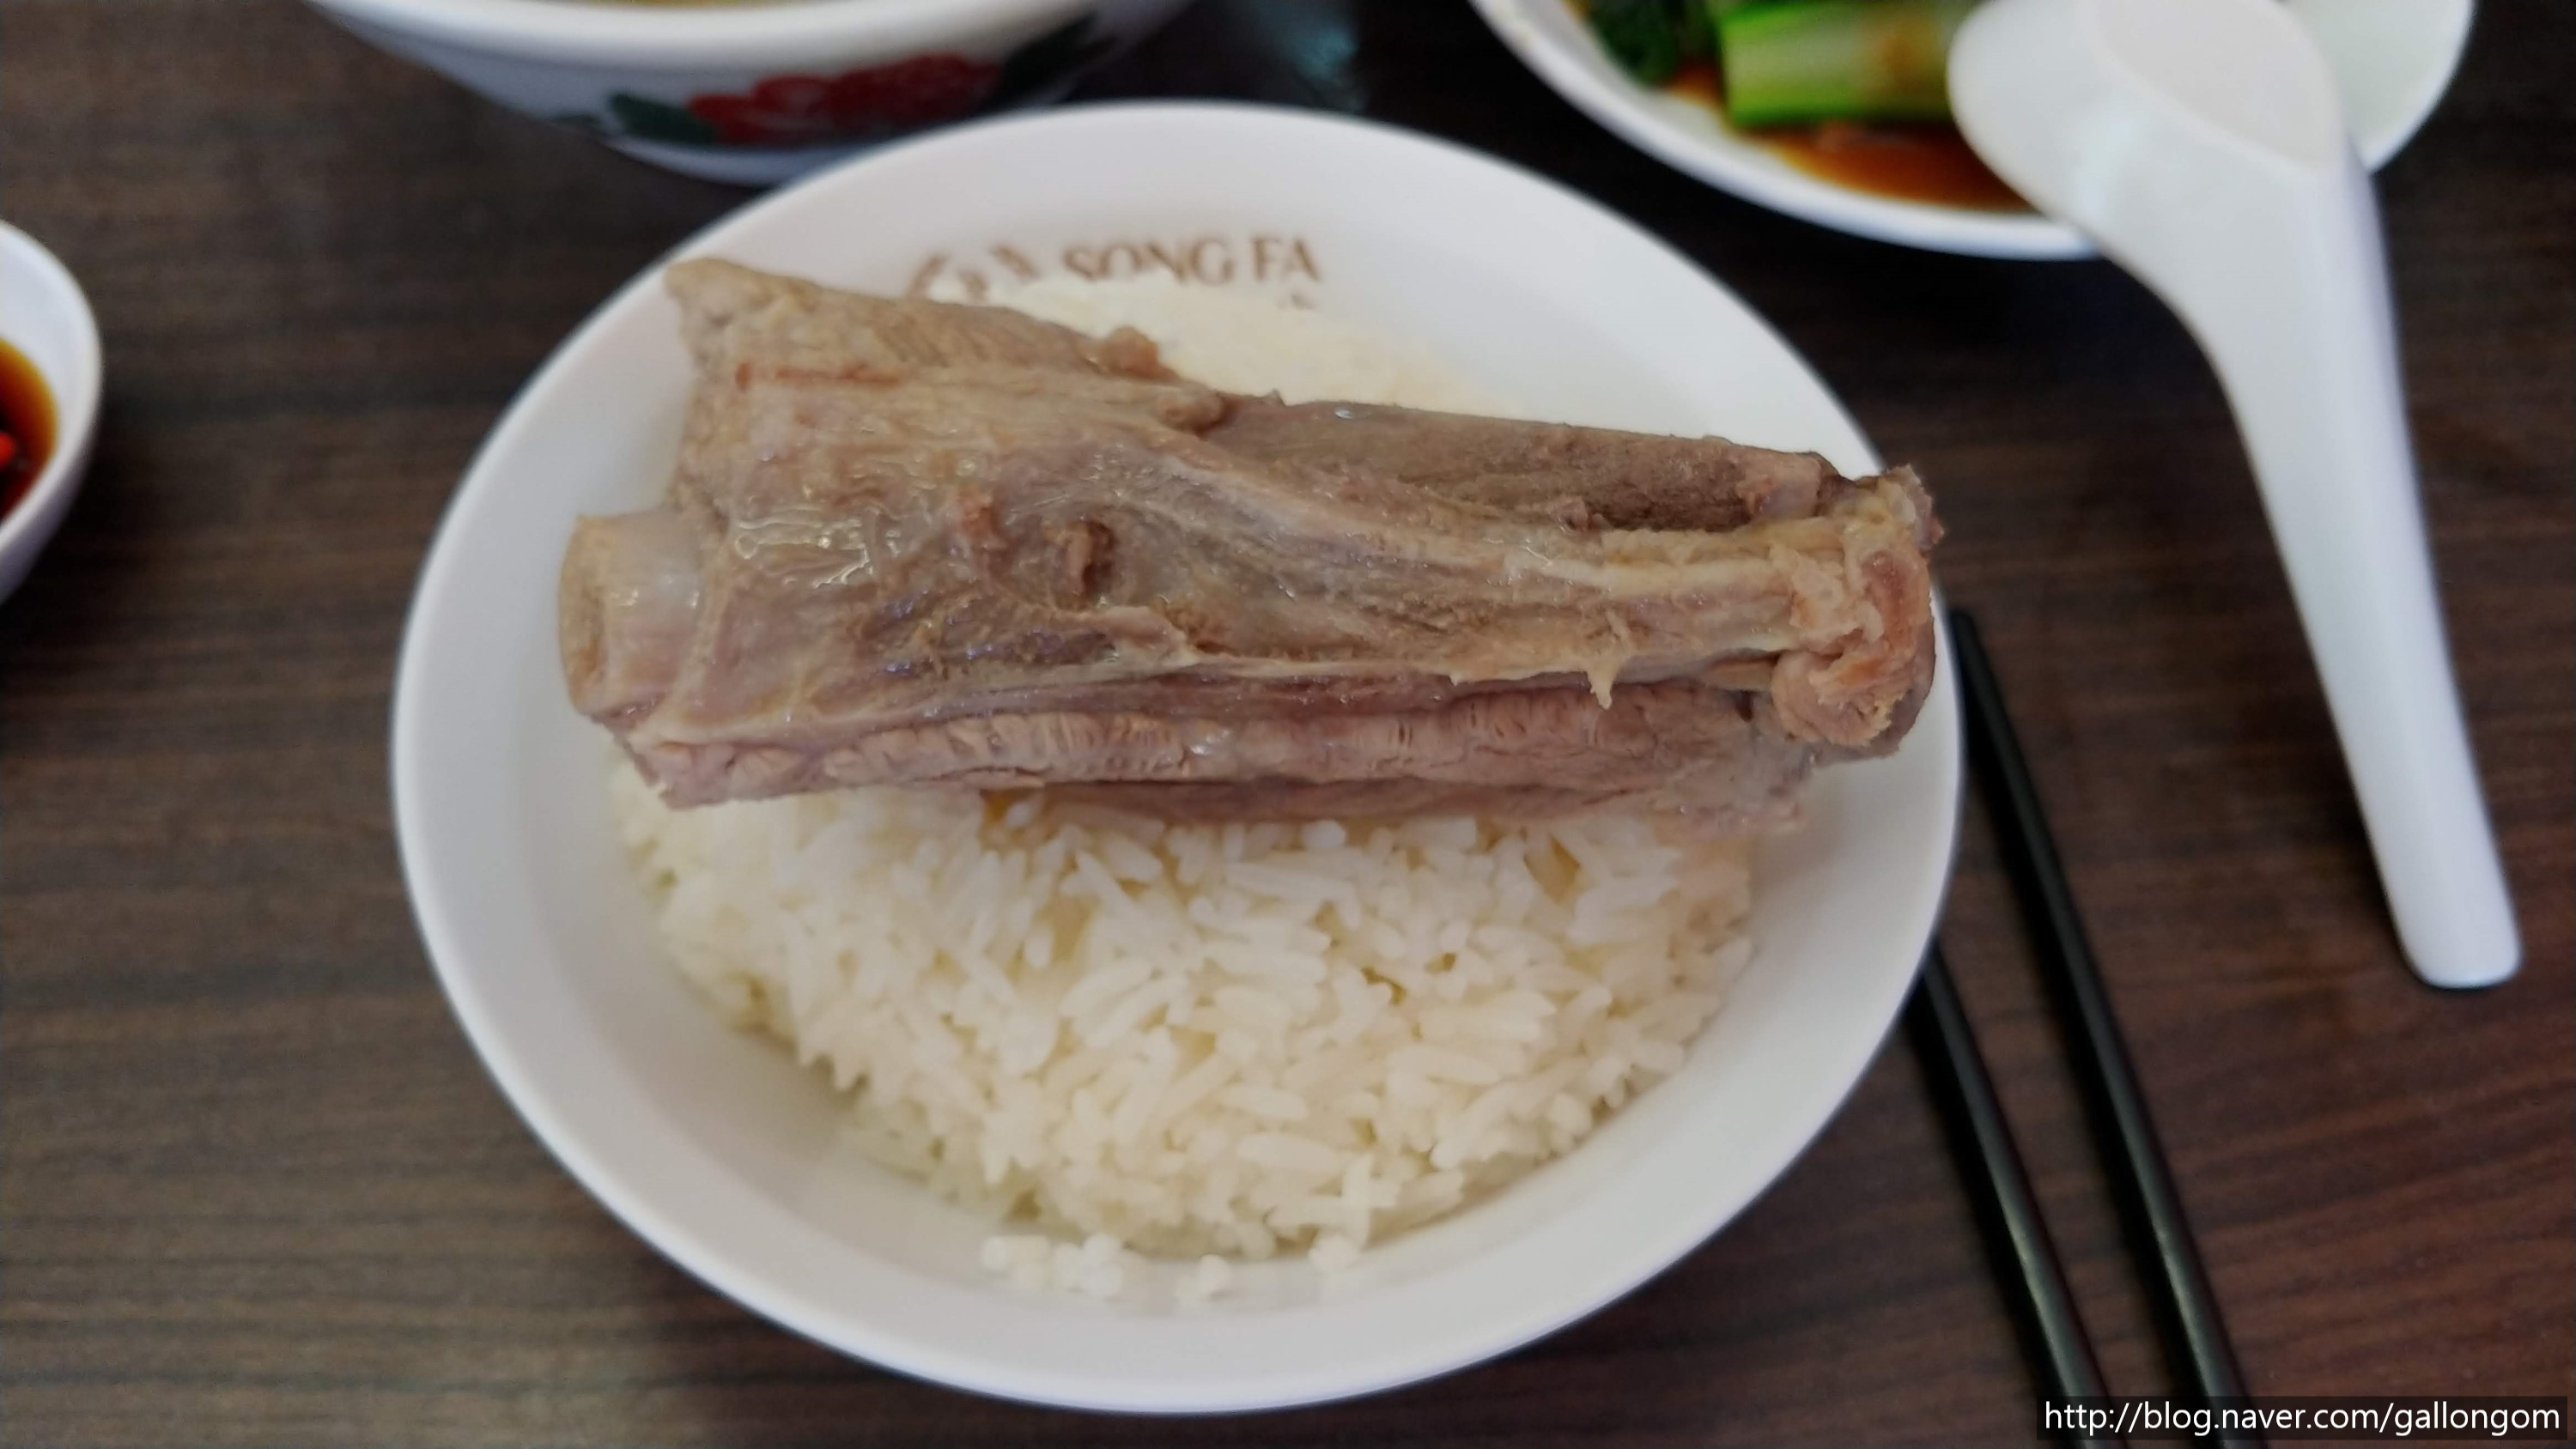plain rice: (701, 810, 1651, 1192)
